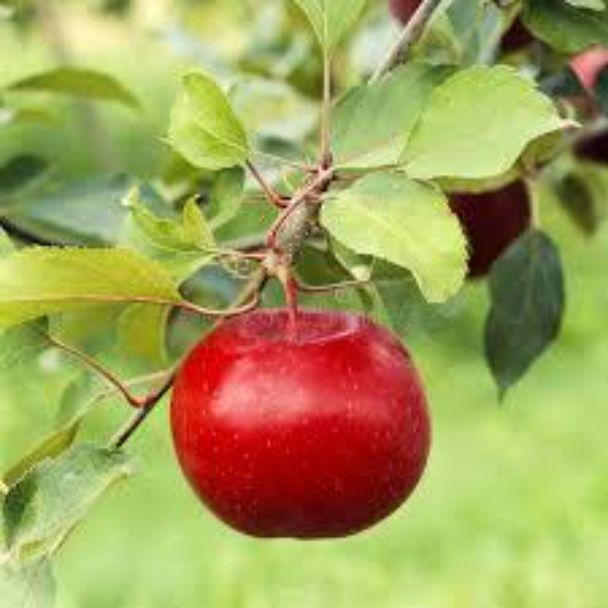HEALTHY: (150, 304, 461, 546)
